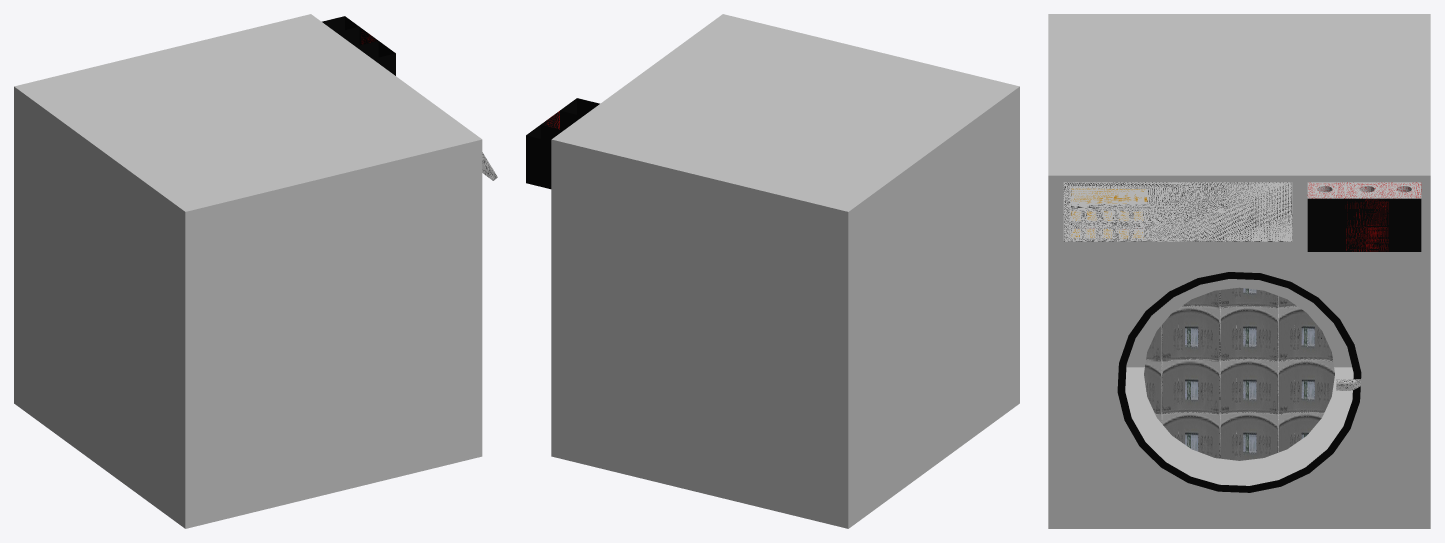
3 views of the same model, side by side, from view 1: azimuth 30°, elevation 25°; view 2: azimuth 150°, elevation 25°; view 3: azimuth 270°, elevation 25° (orthographic). The views are drawn at different scales.
Visible parts, largest first — view 1: mesh1_mesh1-geometry; view 2: mesh1_mesh1-geometry; view 3: mesh1_mesh1-geometry, mesh2_mesh2-geometry.
Boxes of the visible parts, x1,y1,x2,y2 form: mesh1_mesh1-geometry: [14, 14, 497, 528]; mesh1_mesh1-geometry: [526, 14, 1019, 528]; mesh1_mesh1-geometry: [1048, 14, 1430, 528]; mesh2_mesh2-geometry: [1144, 287, 1334, 460].
Size of the model in its own units: 0.6101 by 0.5658 by 0.5547.
